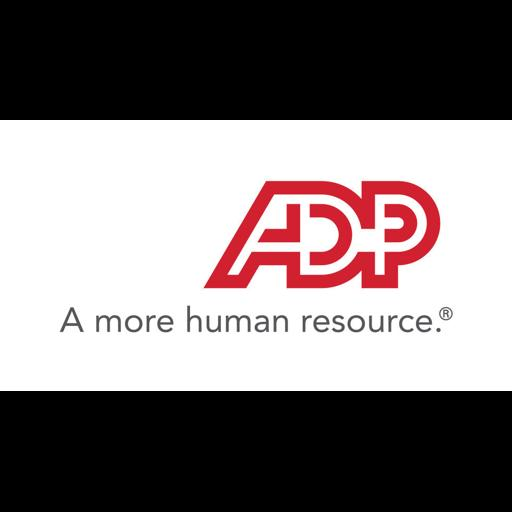ADP: (0, 120, 512, 391)
